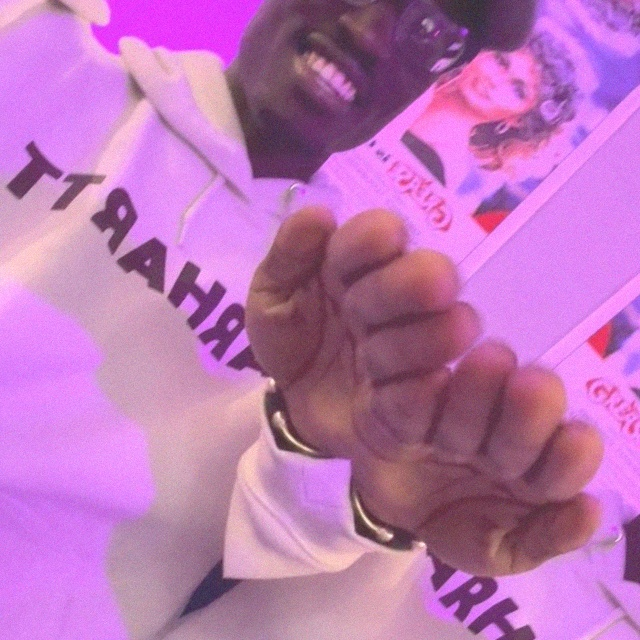Paper: (185, 152, 507, 473)
